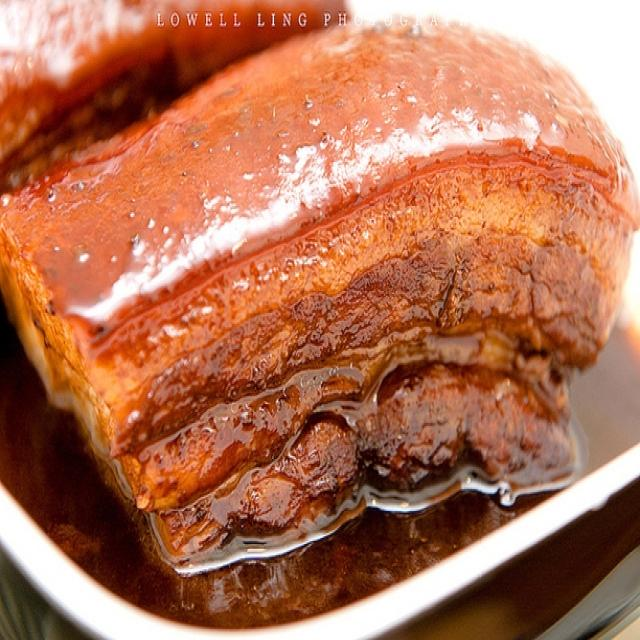牛肉菜式: (16, 25, 630, 560)
